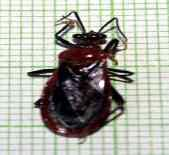Helopeltis-insect: (39, 29, 112, 137)
